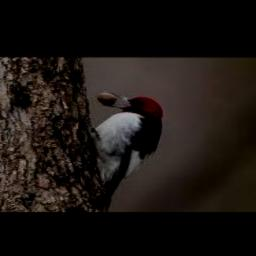Woodpecker: (92, 92, 163, 210)
